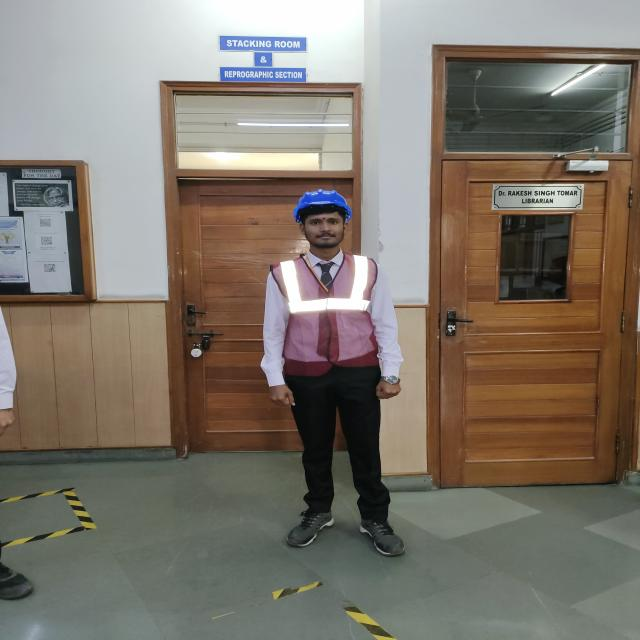safe: (270, 188, 400, 554)
